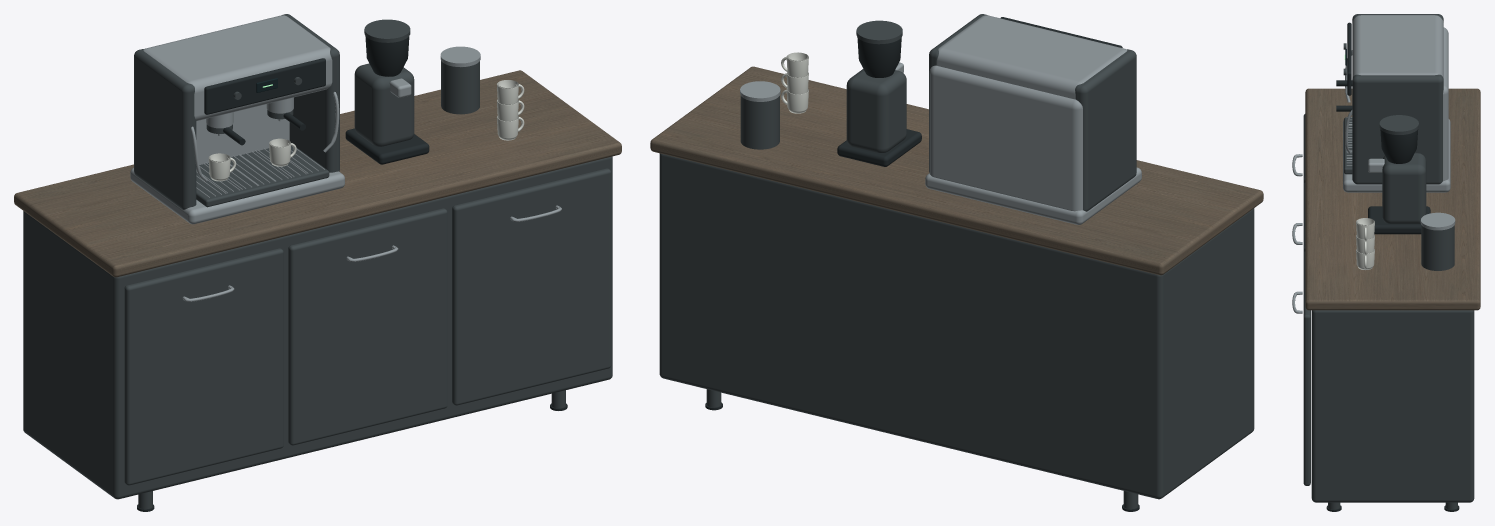
Rendered from coffee.gltf.
The picture shows the model from 3 angles, left to right: view 1: azimuth 30°, elevation 25°; view 2: azimuth 150°, elevation 25°; view 3: azimuth 270°, elevation 25°; orthographic projection. The views are drawn at different scales.
Visible parts, largest first — view 1: Cabinet door (×3), Timber worktop, Service counter carcass, Machine side panel (×2), Brew head bridge, Grinder motor enclosure, Drip tray, Control fascia, Rear heat exchanger enclosure, Machine base, Coffee tin, Grinder base (+3 smaller); view 2: Service counter carcass, Timber worktop, Rear heat exchanger enclosure, Brew head bridge, Machine side panel, Grinder motor enclosure, Machine base, Coffee tin, Bean hopper, Grinder base, Hopper lid; view 3: Service counter carcass, Timber worktop, Machine side panel, Brew head bridge, Grinder motor enclosure, Cabinet door, Coffee tin, Bean hopper, Hopper lid (×2), Machine base, Rear heat exchanger enclosure, Ceramic cup (×3) (+5 smaller).
Part boxes in pixels (bbox=[...]): Cabinet door (×3): bbox=[124, 168, 611, 485]; Timber worktop: bbox=[14, 70, 621, 277]; Service counter carcass: bbox=[23, 156, 612, 499]; Machine side panel (×2): bbox=[134, 14, 339, 209]; Brew head bridge: bbox=[143, 15, 332, 120]; Grinder motor enclosure: bbox=[354, 63, 414, 146]; Drip tray: bbox=[196, 146, 329, 207]; Control fascia: bbox=[204, 58, 325, 114]; Rear heat exchanger enclosure: bbox=[196, 104, 289, 164]; Machine base: bbox=[130, 167, 344, 224]; Coffee tin: bbox=[441, 61, 479, 114]; Grinder base: bbox=[345, 128, 429, 164]; Service counter carcass: bbox=[659, 153, 1254, 499]; Timber worktop: bbox=[650, 66, 1263, 275]; Rear heat exchanger enclosure: bbox=[929, 65, 1082, 211]; Brew head bridge: bbox=[936, 15, 1127, 99]; Machine side panel: bbox=[1075, 49, 1136, 211]; Grinder motor enclosure: bbox=[846, 69, 906, 152]; Machine base: bbox=[925, 167, 1141, 224]; Coffee tin: bbox=[740, 96, 779, 149]; Bean hopper: bbox=[857, 38, 901, 77]; Grinder base: bbox=[837, 129, 921, 166]; Hopper lid: bbox=[856, 20, 902, 44]; Service counter carcass: bbox=[1311, 310, 1474, 502]; Timber worktop: bbox=[1305, 88, 1480, 310]; Machine side panel: bbox=[1352, 74, 1443, 184]; Brew head bridge: bbox=[1352, 15, 1443, 78]; Grinder motor enclosure: bbox=[1382, 153, 1426, 223]; Cabinet door: bbox=[1303, 251, 1310, 485]; Coffee tin: bbox=[1421, 225, 1454, 270]; Bean hopper: bbox=[1380, 129, 1418, 163]; Hopper lid (×2): bbox=[1379, 115, 1418, 134]; Machine base: bbox=[1343, 119, 1450, 192]; Rear heat exchanger enclosure: bbox=[1443, 27, 1448, 181]; Ceramic cup (×3): bbox=[1356, 218, 1374, 269].
Size of what is drawn, in the model's own units: 2.02 by 1.52 by 0.7522.
Materials: 7 (1 with a texture image).
